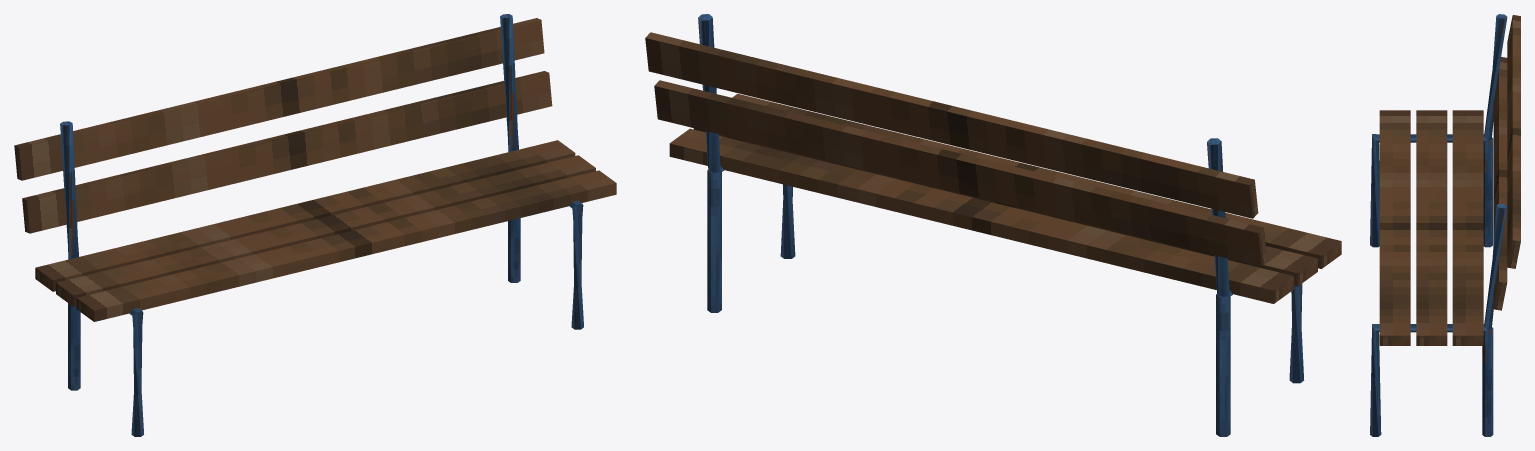
Rendered from bench_entrance.glb.
3 renders of one model, left to right at view 1: azimuth 30°, elevation 25°; view 2: azimuth 150°, elevation 25°; view 3: azimuth 270°, elevation 25°, orthographic. The views are drawn at different scales.
Visible parts, largest first — view 1: bench_entrance; view 2: bench_entrance; view 3: bench_entrance.
Part boxes in pixels (x1=…): bench_entrance: x1=14, y1=14, x2=616, y2=436; bench_entrance: x1=645, y1=14, x2=1341, y2=436; bench_entrance: x1=1370, y1=14, x2=1520, y2=436.
Size of the model in its own units: 1.9 by 0.9021 by 0.5381.
